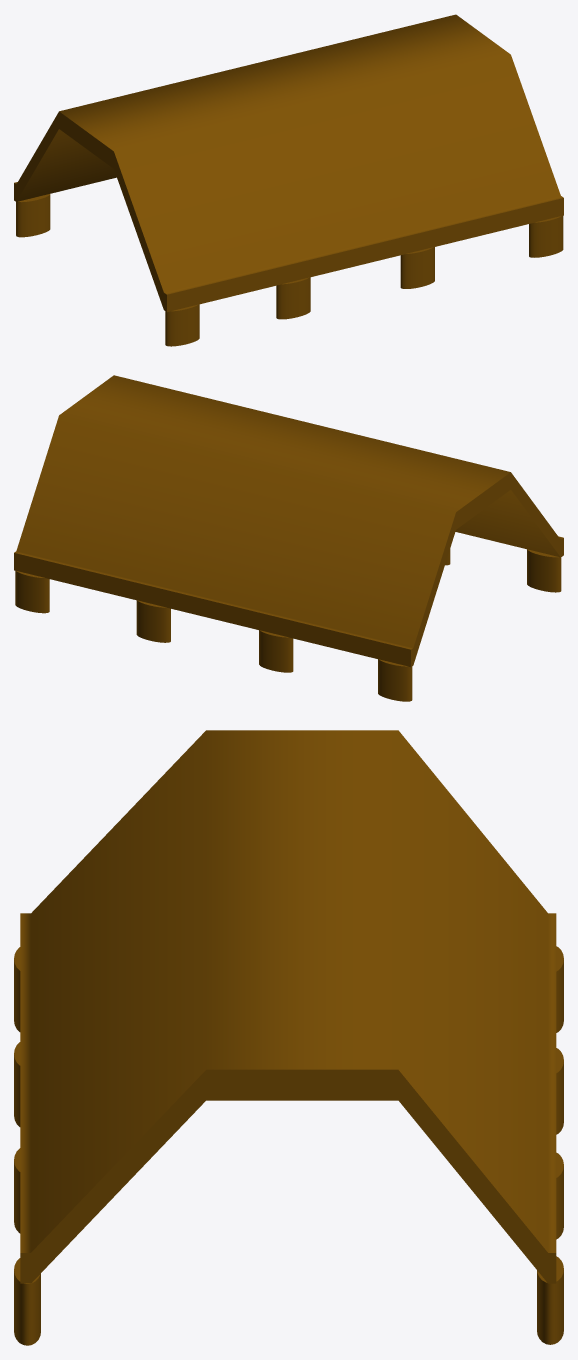
File: Archway.fbx
3 views of the same model, one above another, from view 1: azimuth 30°, elevation 25°; view 2: azimuth 150°, elevation 25°; view 3: azimuth 270°, elevation 25° (orthographic). The views are drawn at different scales.
Parts seen in each view (by area): view 1: Roof, support4, support4a, support3a, support1a, support2a; view 2: Roof, support4a, support4, support2, support1, support3; view 3: Roof, support1, support1a.
Part boxes in pixels (bbox=[...]): Roof: bbox=[14, 14, 563, 312]; support4: bbox=[16, 194, 50, 237]; support4a: bbox=[165, 304, 199, 346]; support3a: bbox=[276, 277, 310, 319]; support1a: bbox=[529, 216, 563, 257]; support2a: bbox=[400, 247, 434, 288]; Roof: bbox=[14, 375, 563, 667]; support4a: bbox=[527, 549, 561, 592]; support4: bbox=[378, 659, 412, 701]; support2: bbox=[136, 600, 170, 642]; support1: bbox=[15, 571, 49, 613]; support3: bbox=[259, 630, 293, 672]; Roof: bbox=[20, 730, 556, 1283]; support1: bbox=[537, 1256, 563, 1344]; support1a: bbox=[14, 1258, 40, 1345].
Size of the model in its own units: 23.69 by 8.93 by 16.18.
